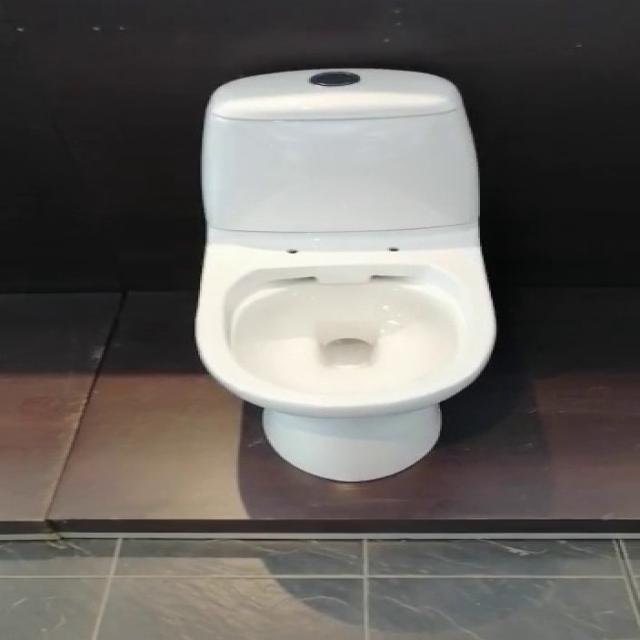toilet: (193, 66, 496, 482)
